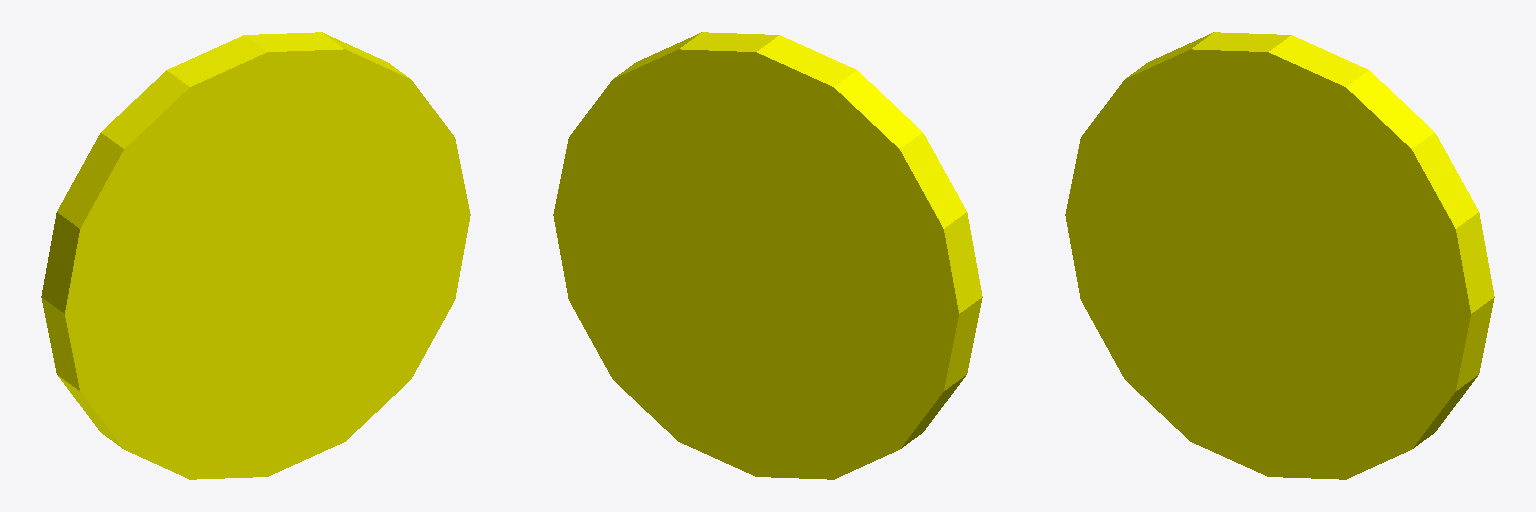
The model's file is coin.obj.
3 views of the same model, side by side, from view 1: azimuth 30°, elevation 25°; view 2: azimuth 150°, elevation 25°; view 3: azimuth 330°, elevation 25° (orthographic).
Size of the model in its own units: 2 by 2 by 0.2.